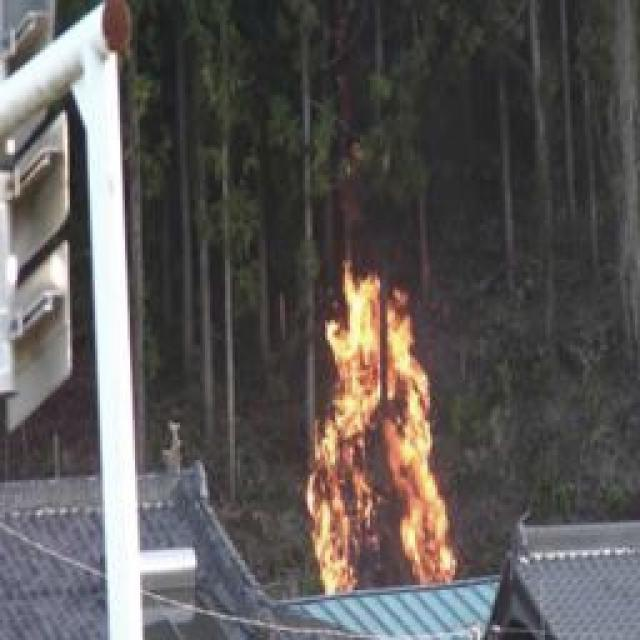Fire: (305, 280, 458, 600)
